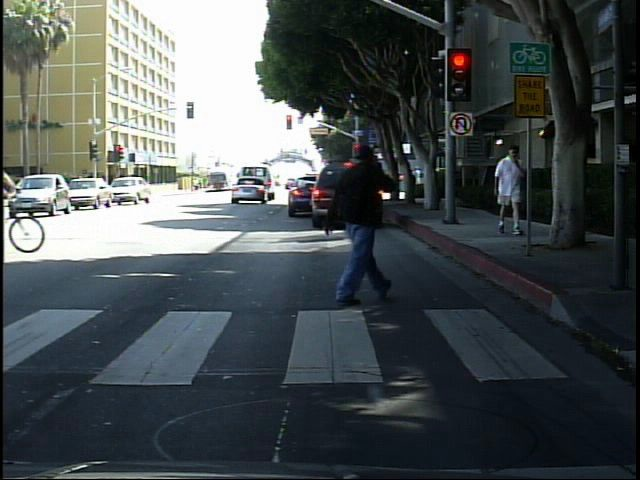person: (309, 128, 403, 322), (491, 141, 532, 237), (561, 138, 595, 245)
